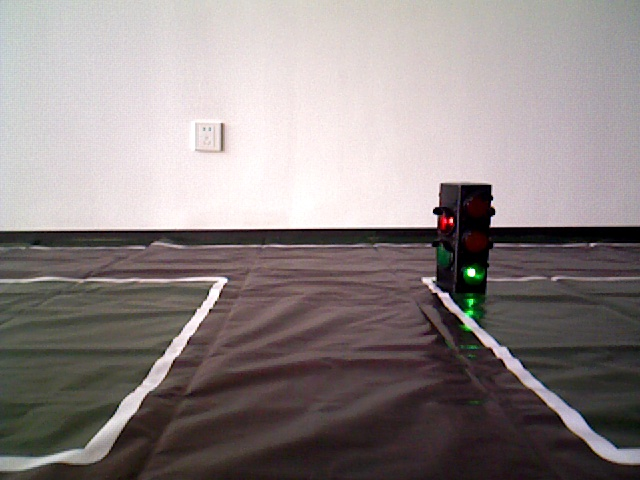green: (437, 187, 492, 293)
